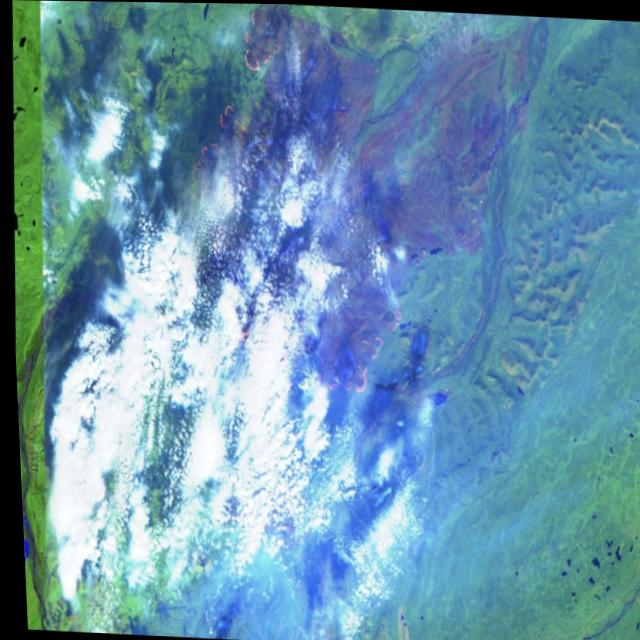fire: (165, 2, 296, 239), (269, 290, 422, 422)
